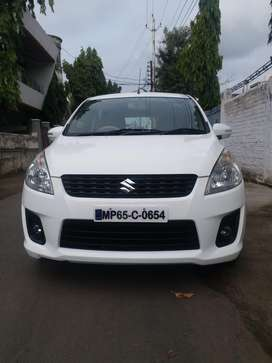MP65C0654: (93, 206, 167, 223)
